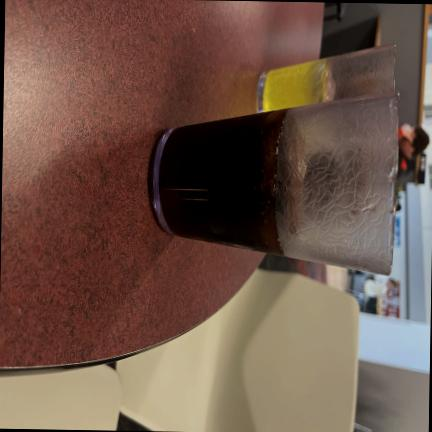container: (148, 90, 397, 272), (254, 48, 395, 135)
fluid: (157, 108, 287, 254), (260, 58, 328, 133)
fluid-surface: (276, 110, 296, 256), (325, 58, 329, 135)
